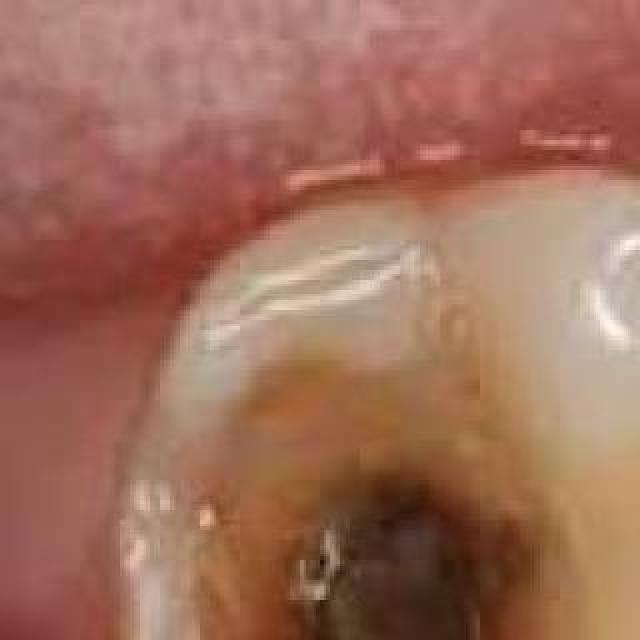cavities: (204, 400, 544, 640)
